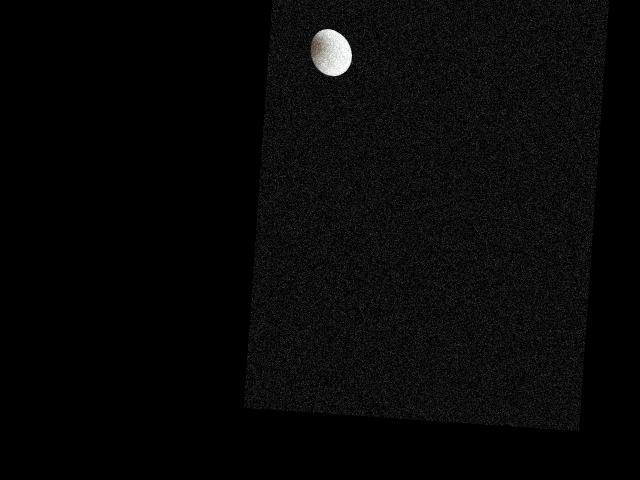egg: (309, 27, 353, 76)
